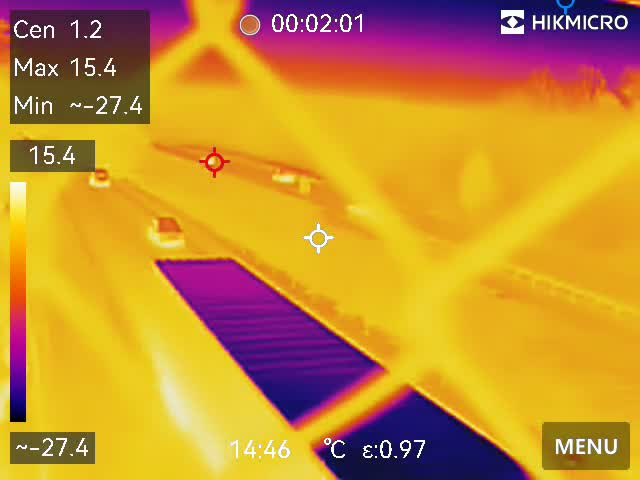heavyTruck: (148, 251, 556, 480)
vehicle: (140, 207, 187, 253)
